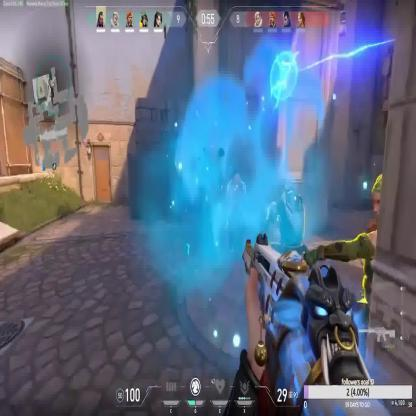enemy: (306, 168, 390, 346), (268, 178, 310, 307), (226, 172, 248, 254)
enemy_head: (370, 174, 388, 216), (284, 177, 294, 192), (234, 173, 242, 184)
